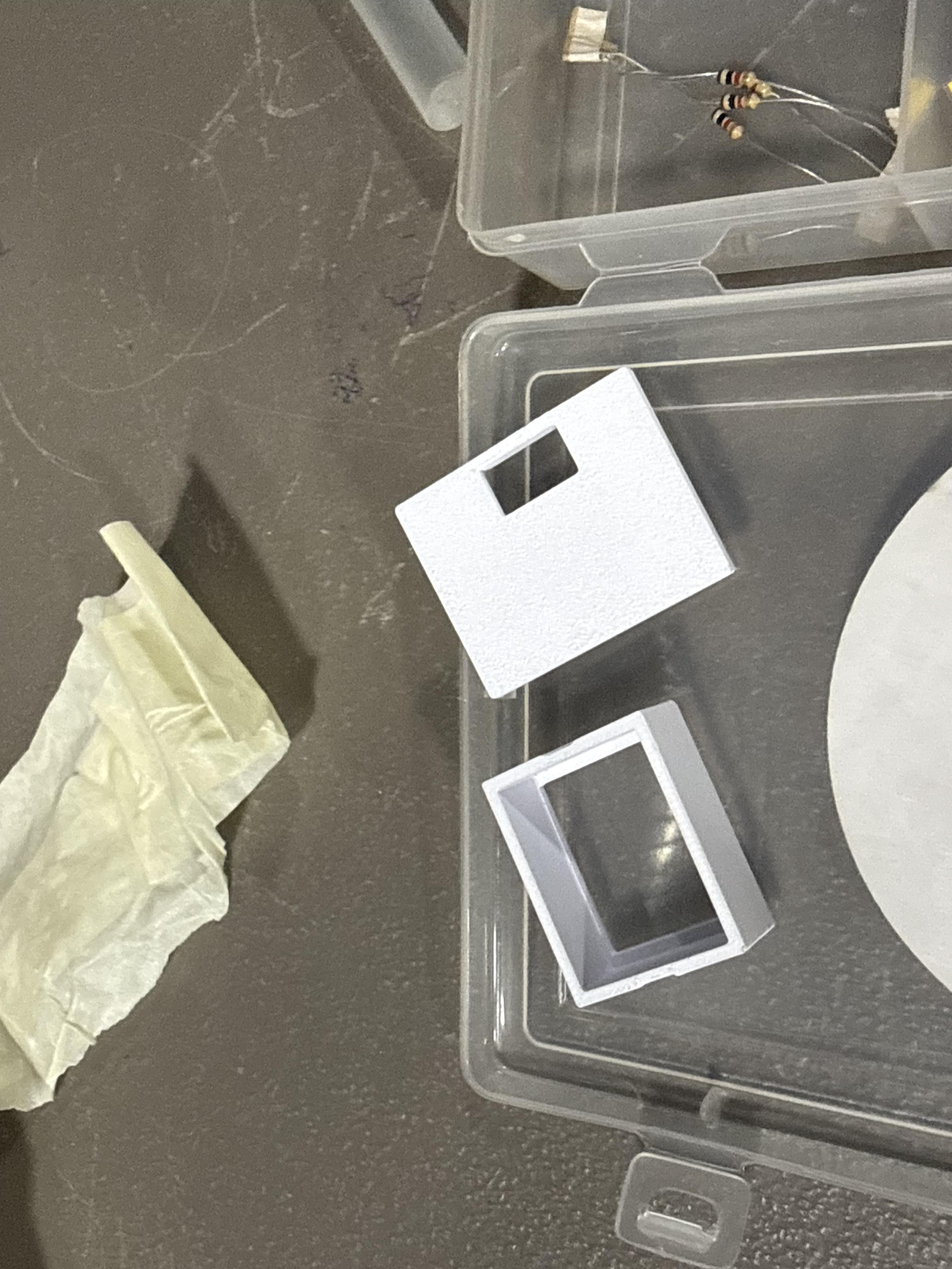enclosure: (395, 366, 738, 700), (482, 700, 776, 1009)
